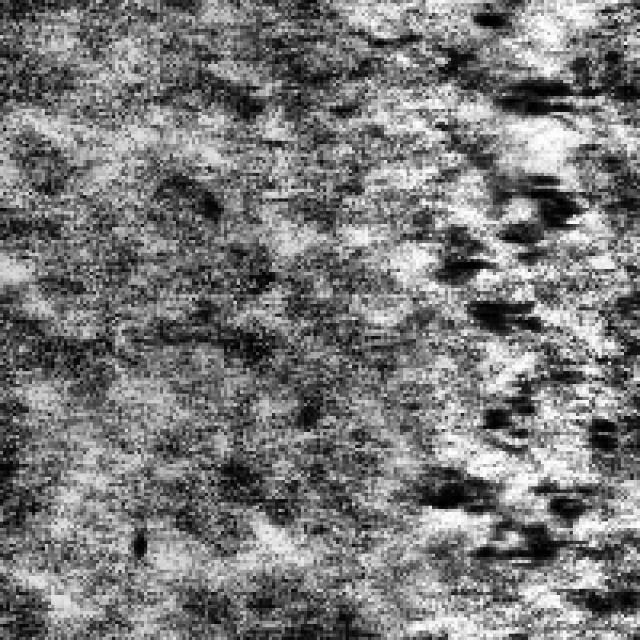Crazing: (412, 112, 596, 563), (371, 0, 617, 102)
